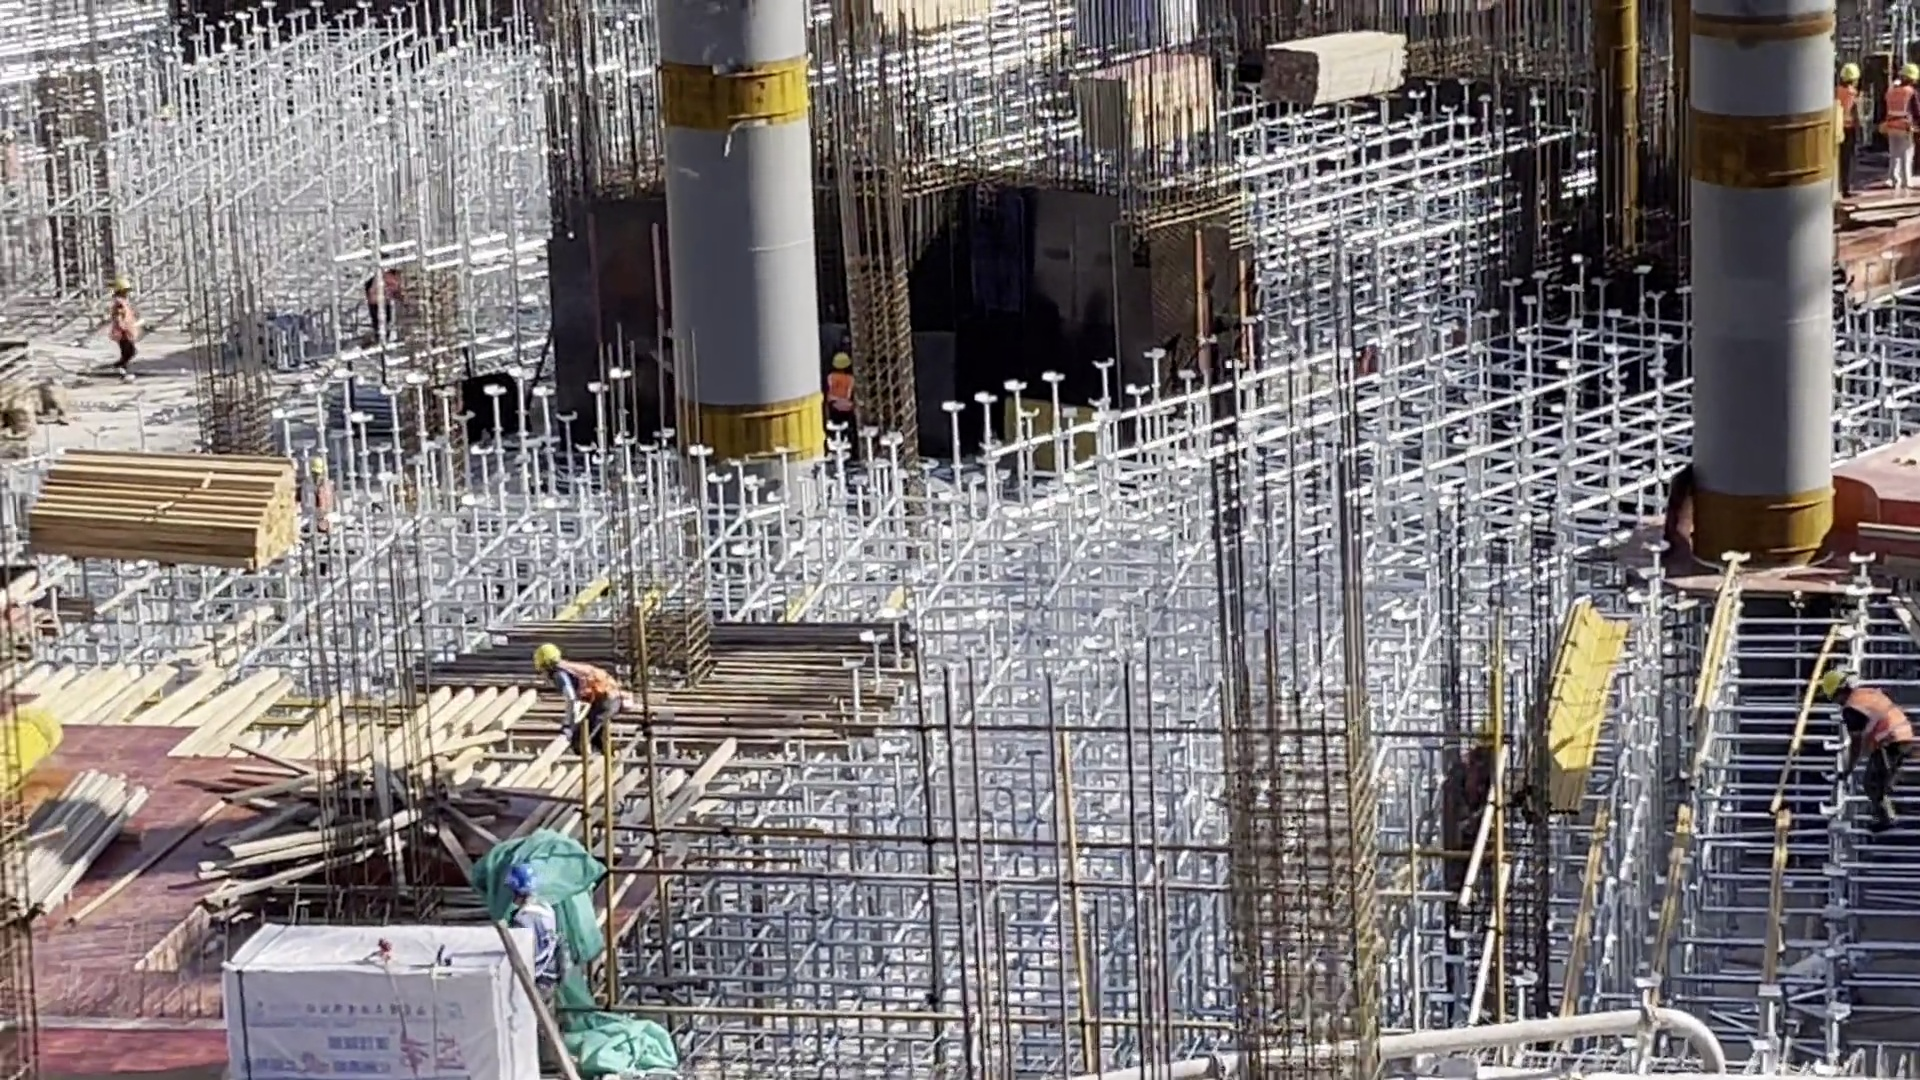board: (1074, 51, 1222, 154)
helmet: (1820, 667, 1844, 701), (1893, 61, 1920, 86), (535, 643, 558, 669), (830, 352, 852, 370), (109, 277, 132, 293), (1842, 61, 1857, 83)
person: (1815, 670, 1920, 838), (525, 644, 626, 765), (1883, 62, 1920, 199), (1834, 60, 1867, 199), (108, 277, 139, 379), (821, 348, 855, 421), (362, 261, 396, 333)
vest: (1847, 686, 1914, 751), (564, 662, 620, 706), (1884, 80, 1920, 147), (108, 297, 141, 343), (821, 374, 855, 415)
wood: (21, 444, 302, 572), (1265, 26, 1411, 113), (824, 1, 1008, 47)
